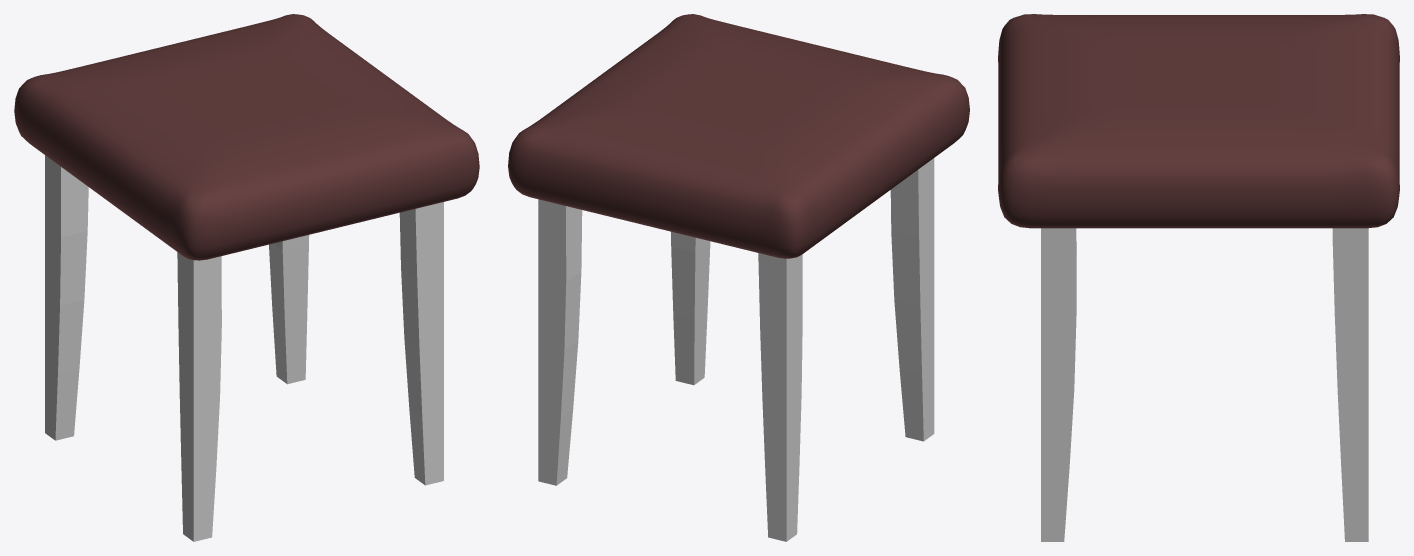
File: Tabouret6_1.fbx
3 views of the same model, side by side, from view 1: azimuth 30°, elevation 25°; view 2: azimuth 150°, elevation 25°; view 3: azimuth 270°, elevation 25° (orthographic). The views are drawn at different scales.
Parts seen in each view (by area): view 1: pCube2647, polySurface996, polySurface994, polySurface995, polySurface993; view 2: pCube2647, polySurface995, polySurface993, polySurface996, polySurface994; view 3: pCube2647, polySurface994, polySurface993.
Part boxes in pixels (left/top/right/bottom): pCube2647: left=14, top=14, right=479, bottom=260; polySurface996: left=177, top=252, right=221, bottom=541; polySurface994: left=399, top=202, right=443, bottom=485; polySurface995: left=45, top=155, right=88, bottom=440; polySurface993: left=269, top=235, right=309, bottom=384; pCube2647: left=508, top=14, right=969, bottom=258; polySurface995: left=758, top=253, right=802, bottom=541; polySurface993: left=538, top=199, right=582, bottom=485; polySurface996: left=890, top=158, right=934, bottom=441; polySurface994: left=671, top=231, right=710, bottom=385; pCube2647: left=998, top=14, right=1399, bottom=228; polySurface994: left=1041, top=228, right=1076, bottom=541; polySurface993: left=1332, top=228, right=1368, bottom=541.
Bounding box in the file's own units: 38.55 × 44.75 × 40.86.
